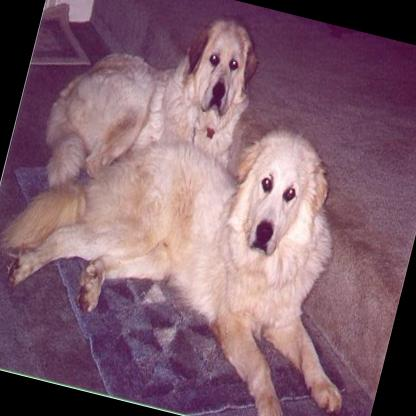Great_Pyrenees: (0, 69, 402, 416), (31, 0, 269, 227)
